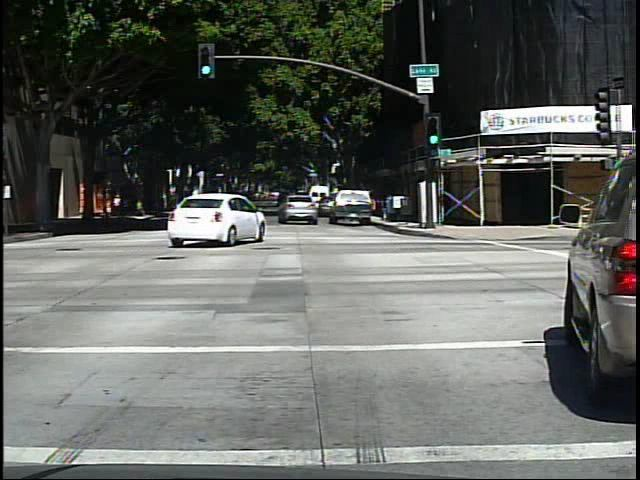person: (110, 190, 127, 222)
